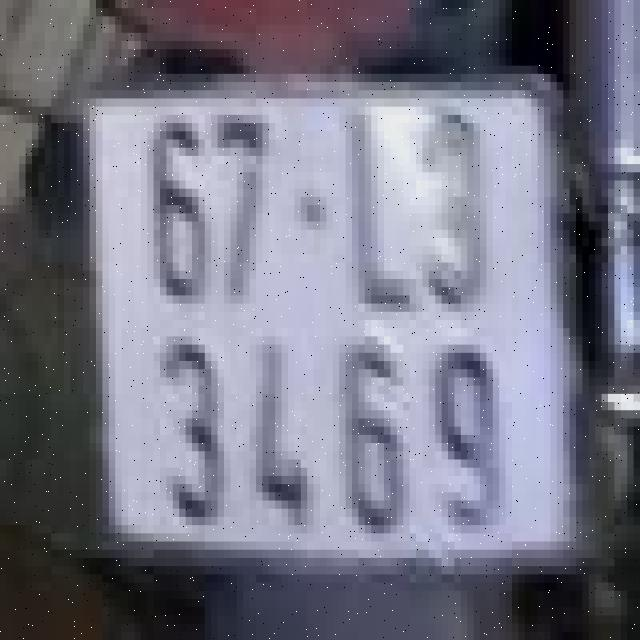3: (150, 328, 228, 534), (429, 106, 493, 312)
4: (240, 316, 317, 537)
6: (323, 336, 419, 550), (144, 102, 221, 316)
7: (221, 102, 272, 308)
9: (432, 328, 509, 534)
L: (336, 94, 419, 308)
